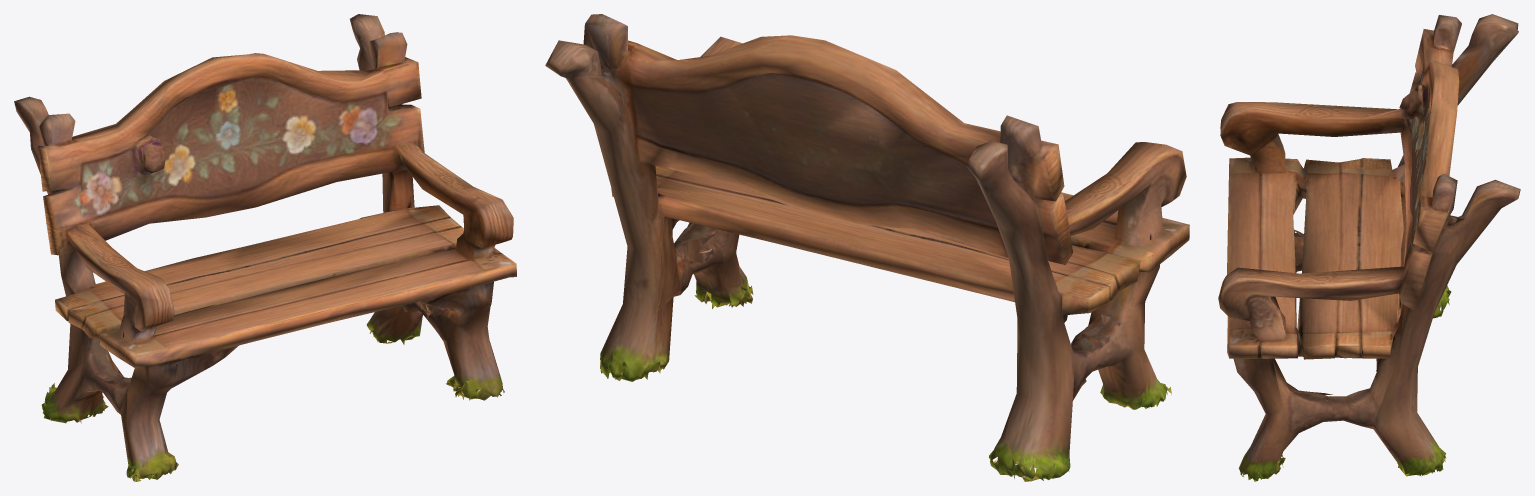
File: bench.glb
3 views of the same model, side by side, from view 1: azimuth 30°, elevation 25°; view 2: azimuth 150°, elevation 25°; view 3: azimuth 270°, elevation 25° (orthographic). The views are drawn at different scales.
Parts seen in each view (by area): view 1: Mesh1.0; view 2: Mesh1.0; view 3: Mesh1.0.
Boxes of the visible parts, x1=… form: Mesh1.0: x1=14, y1=14, x2=516, y2=481; Mesh1.0: x1=545, y1=14, x2=1189, y2=481; Mesh1.0: x1=1218, y1=14, x2=1520, y2=481.
Size of the model in its own units: 1.98 by 1.54 by 1.34.
1 material, 1 textured.
